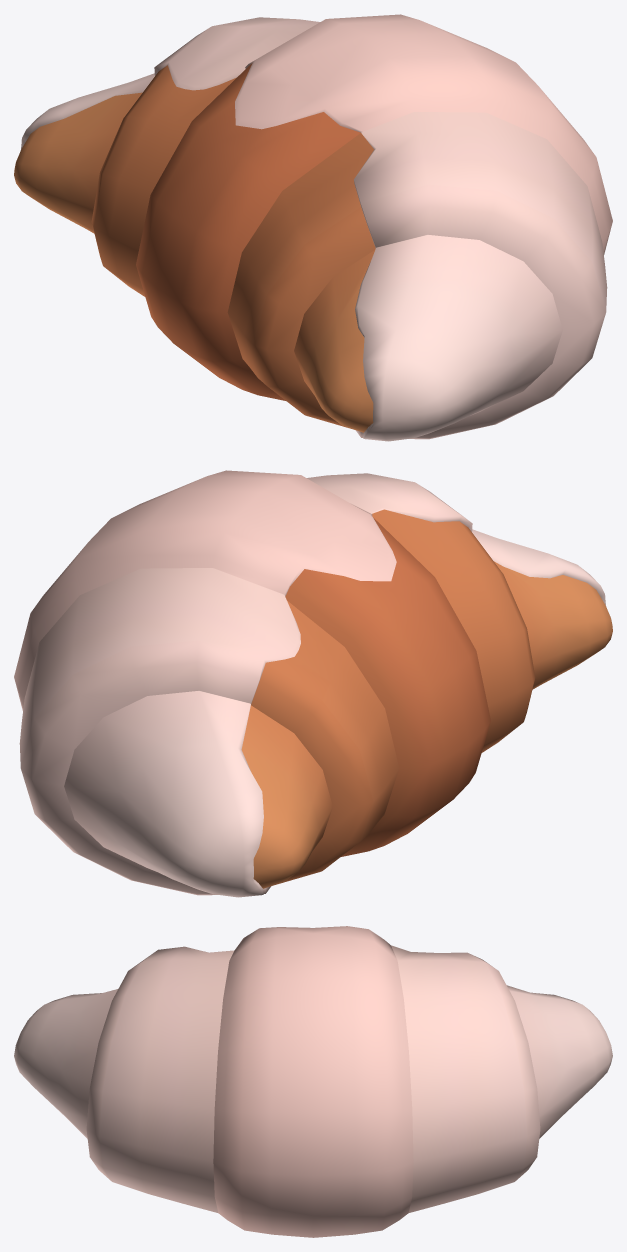
File: Croissant_V1_02.fbx
The picture shows the model from 3 angles, top to bottom: view 1: azimuth 30°, elevation 25°; view 2: azimuth 150°, elevation 25°; view 3: azimuth 270°, elevation 25°; orthographic projection. The views are drawn at different scales.
Parts seen in each view (by area): view 1: Croissant_V1_02; view 2: Croissant_V1_02; view 3: Croissant_V1_02.
Part boxes in pixels (bbox=[...]): Croissant_V1_02: bbox=[14, 14, 612, 441]; Croissant_V1_02: bbox=[14, 470, 612, 897]; Croissant_V1_02: bbox=[14, 926, 612, 1237].
Bounding box in the file's own units: 40 × 31.87 × 61.91.
